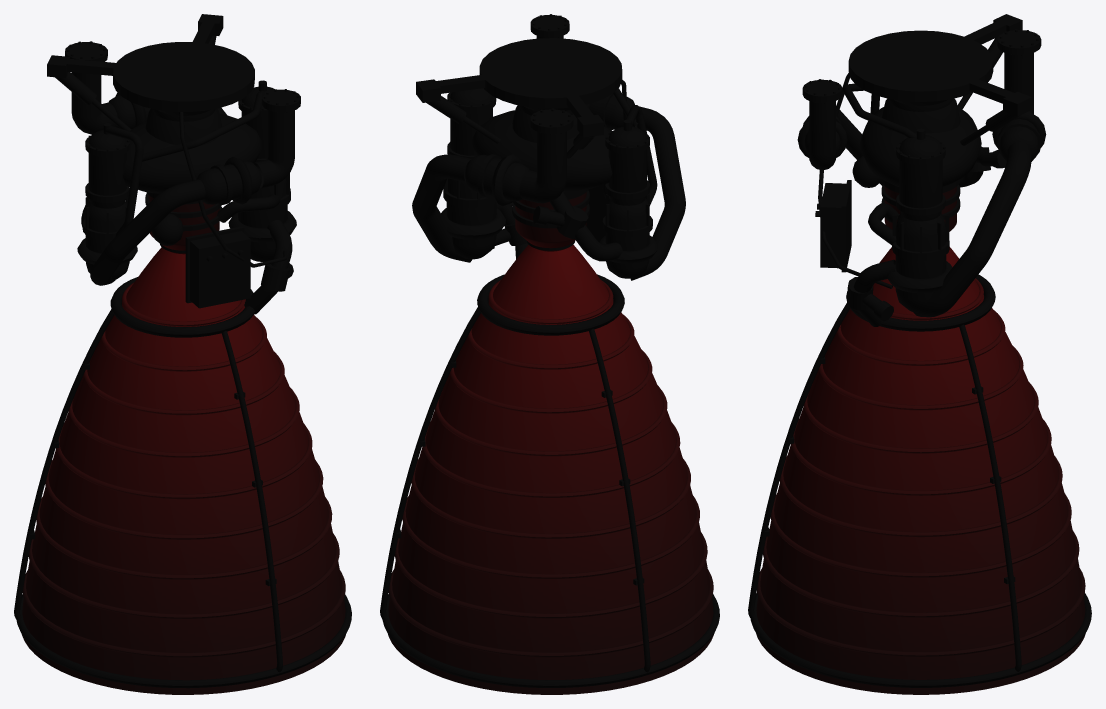
File: eng_hydrolox_high_efficiency.fbx
3 renders of one model, left to right at view 1: azimuth 30°, elevation 25°; view 2: azimuth 150°, elevation 25°; view 3: azimuth 270°, elevation 25°, orthographic.
Parts seen in each view (by area): view 1: eng_hydrolox_high_efficiency_LOD0; view 2: eng_hydrolox_high_efficiency_LOD0; view 3: eng_hydrolox_high_efficiency_LOD0.
Boxes of the visible parts, left/top/right/bottom form: eng_hydrolox_high_efficiency_LOD0: left=14, top=14, right=351, bottom=694; eng_hydrolox_high_efficiency_LOD0: left=380, top=14, right=719, bottom=694; eng_hydrolox_high_efficiency_LOD0: left=748, top=14, right=1091, bottom=694.
Size of what is drawn, in the model's own units: 2.36 by 4.3 by 2.38.
